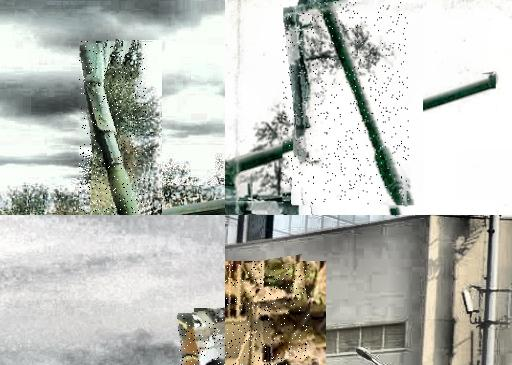tanks: (284, 4, 410, 205), (80, 41, 140, 216), (226, 266, 310, 365), (239, 196, 372, 216)
